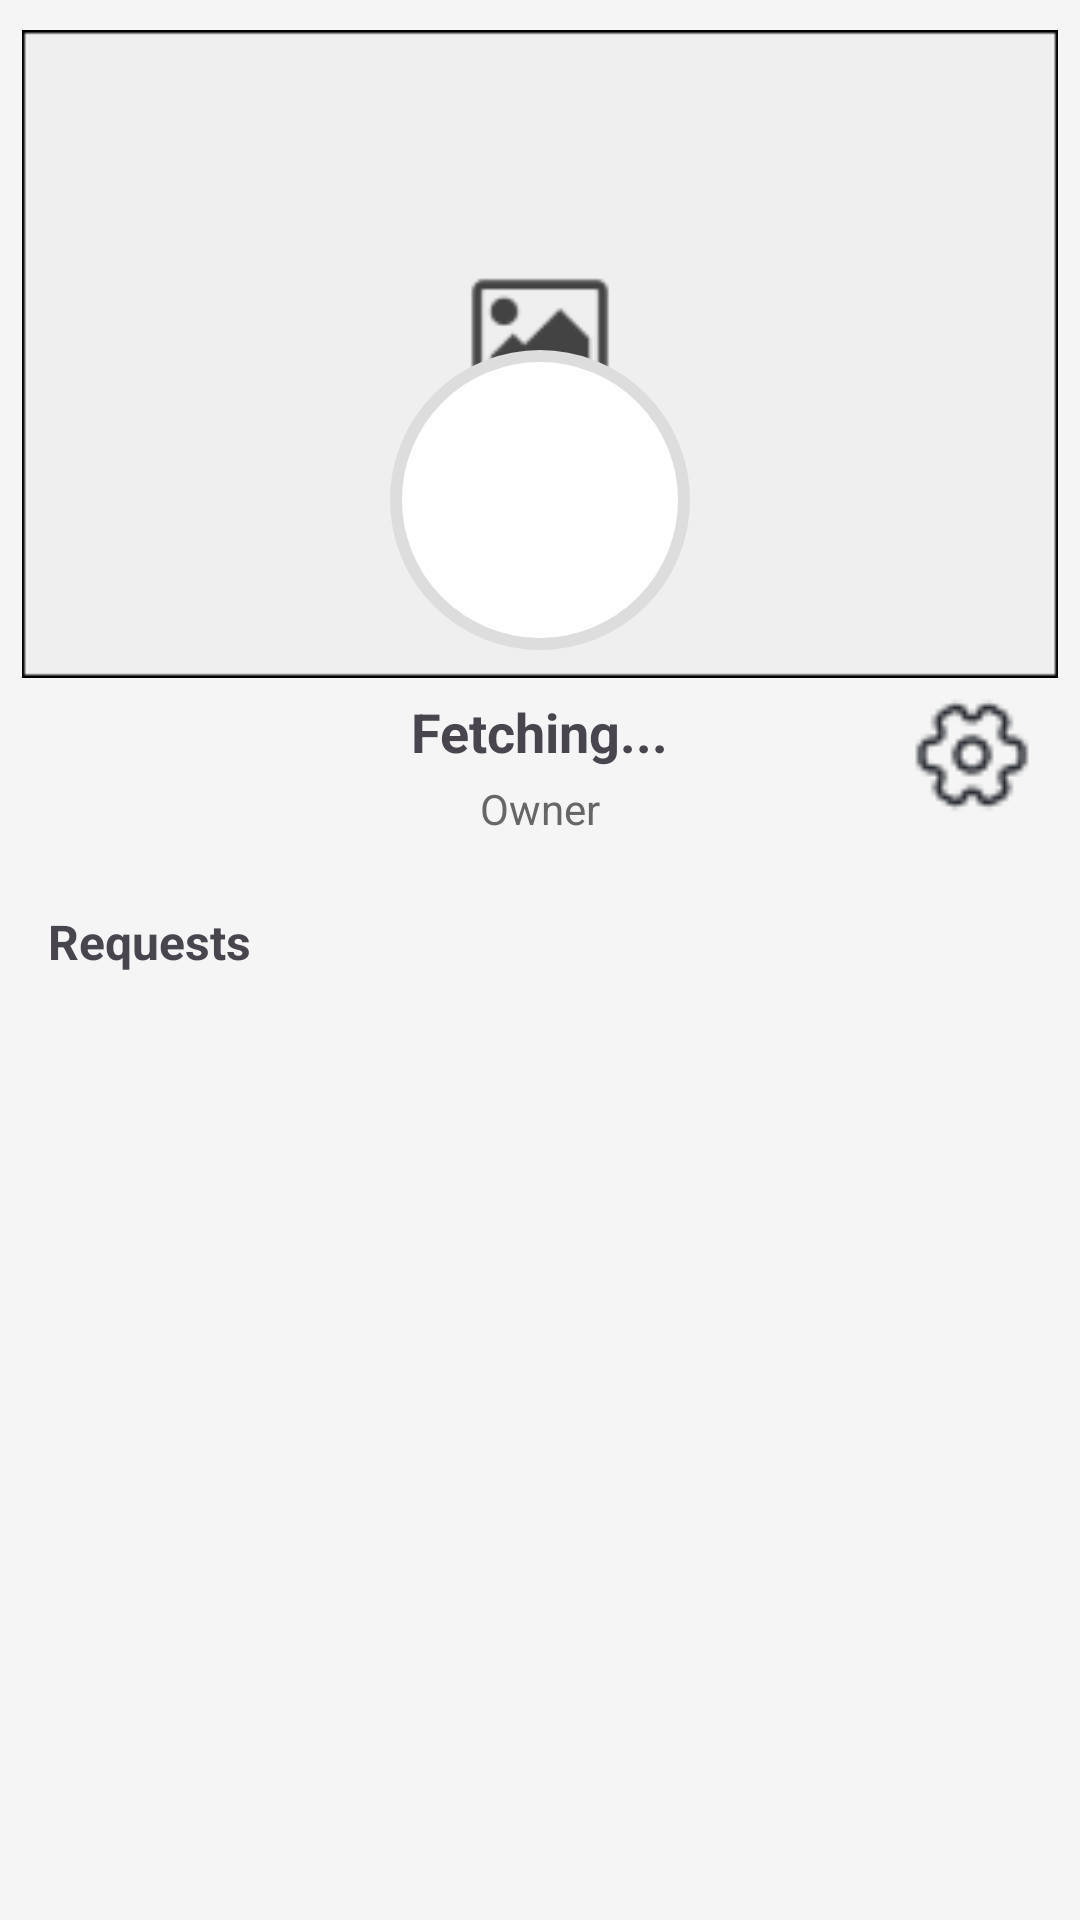

Screen size 1080×1920. Icon name, then its center in pixels as (x,y):
Settings: (972,755)
